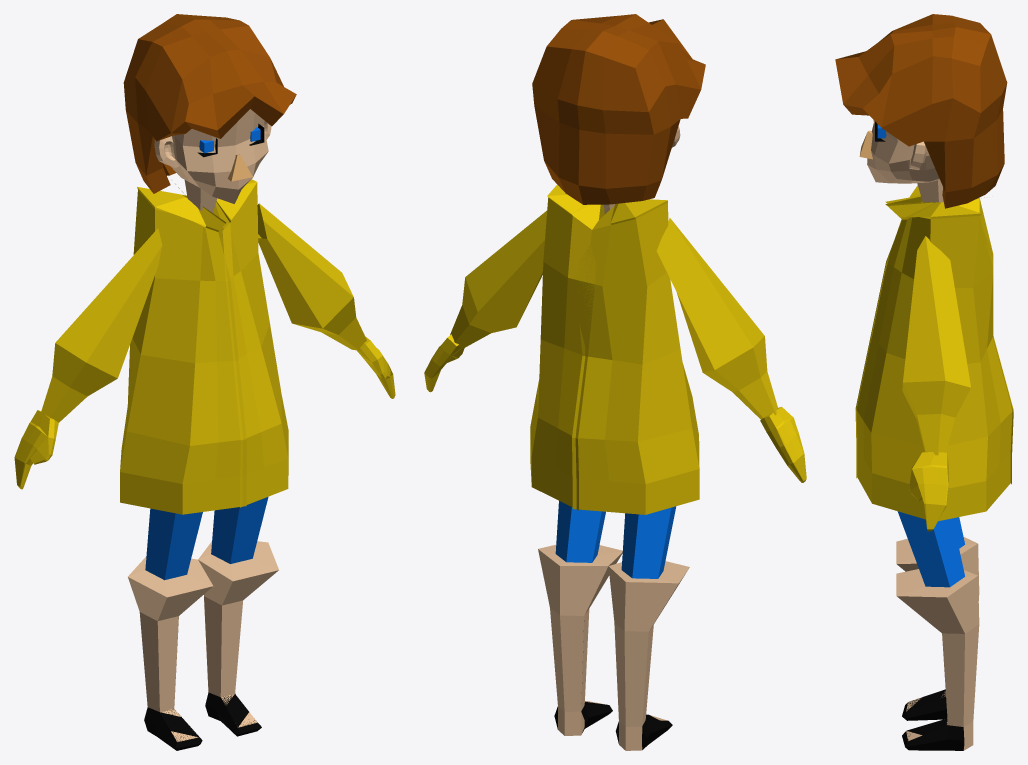
The model's file is scout.fbx.
3 views of the same model, side by side, from view 1: azimuth 30°, elevation 25°; view 2: azimuth 150°, elevation 25°; view 3: azimuth 270°, elevation 25° (orthographic).
Parts seen in each view (by area): view 1: Cube, Cylinder.001, Cylinder, Cube.003, Cube.001, Cylinder.004; view 2: Cube, Cube.003, Cylinder, Cylinder.001, Cylinder.004; view 3: Cube, Cube.003, Cylinder.001, Cylinder, Cylinder.004, Cube.001, Cylinder.002, Cube.002.
Boxes of the visible parts, bbox=[...] form: Cube: bbox=[120, 179, 288, 514]; Cylinder.001: bbox=[14, 203, 395, 489]; Cylinder: bbox=[128, 496, 278, 741]; Cube.003: bbox=[123, 14, 296, 193]; Cube.001: bbox=[170, 109, 268, 203]; Cylinder.004: bbox=[144, 692, 261, 750]; Cube: bbox=[530, 184, 699, 514]; Cube.003: bbox=[532, 14, 705, 204]; Cylinder: bbox=[538, 501, 689, 750]; Cylinder.001: bbox=[424, 210, 806, 482]; Cylinder.004: bbox=[554, 701, 672, 749]; Cube: bbox=[855, 185, 1013, 521]; Cube.003: bbox=[835, 14, 1007, 208]; Cylinder.001: bbox=[902, 236, 970, 531]; Cylinder: bbox=[896, 511, 979, 750]; Cylinder.004: bbox=[902, 689, 964, 750]; Cube.001: bbox=[867, 120, 939, 183]; Cylinder.002: bbox=[917, 180, 943, 202]; Cube.002: bbox=[909, 141, 926, 169].
Size of the model in its own units: 209 by 375 by 86.15.
